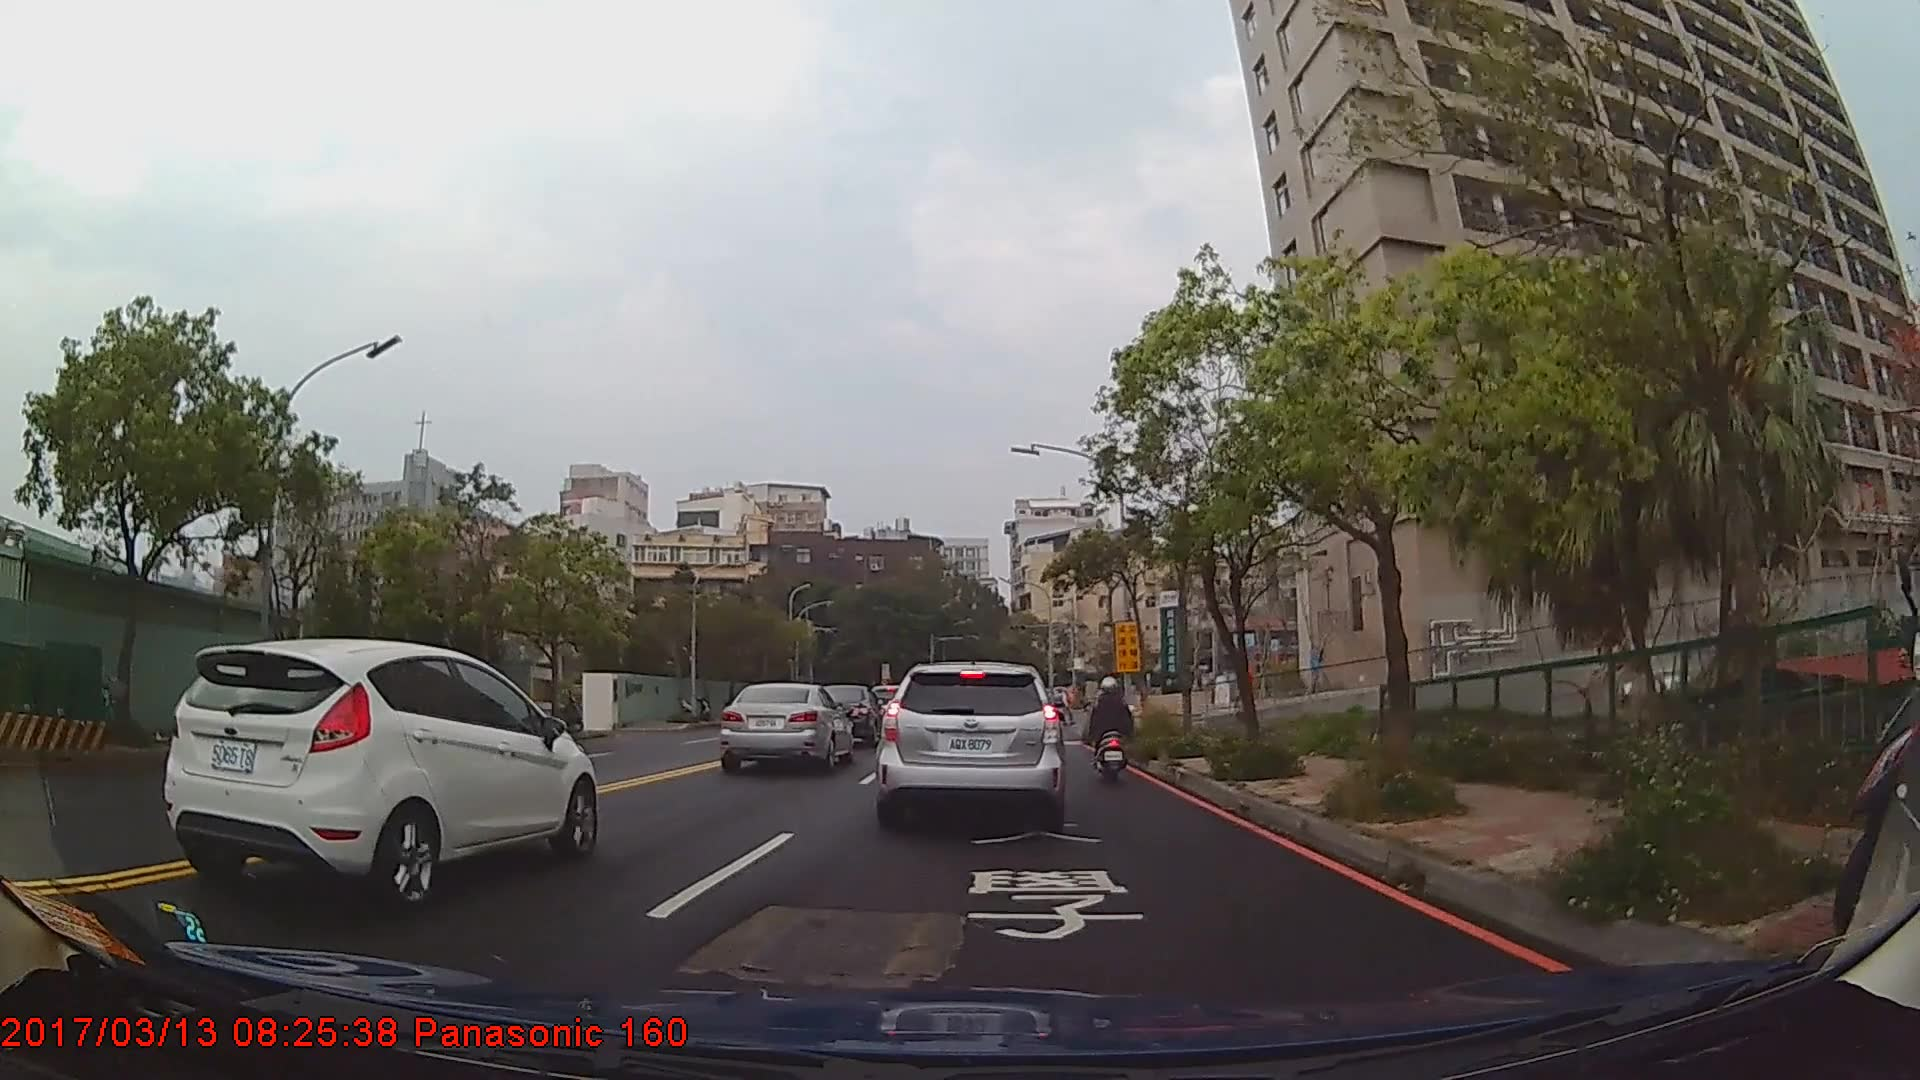rider: (1087, 675, 1134, 786)
vehicle: (160, 633, 597, 912), (876, 660, 1064, 827), (719, 680, 853, 773), (809, 682, 881, 745)
